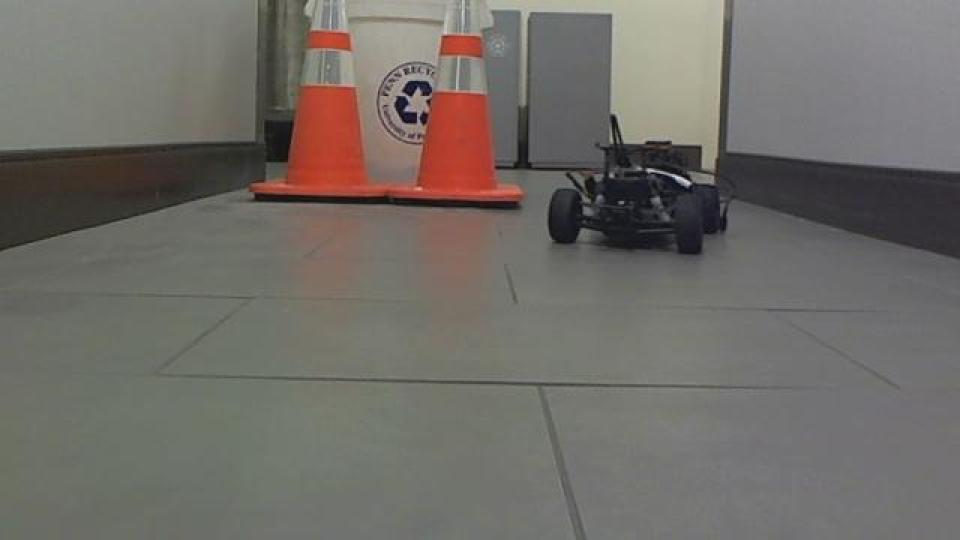car: (543, 111, 735, 257)
